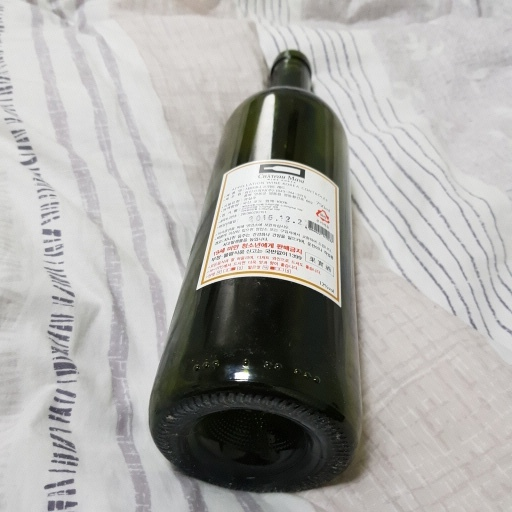Glass_2: (144, 51, 361, 493)
